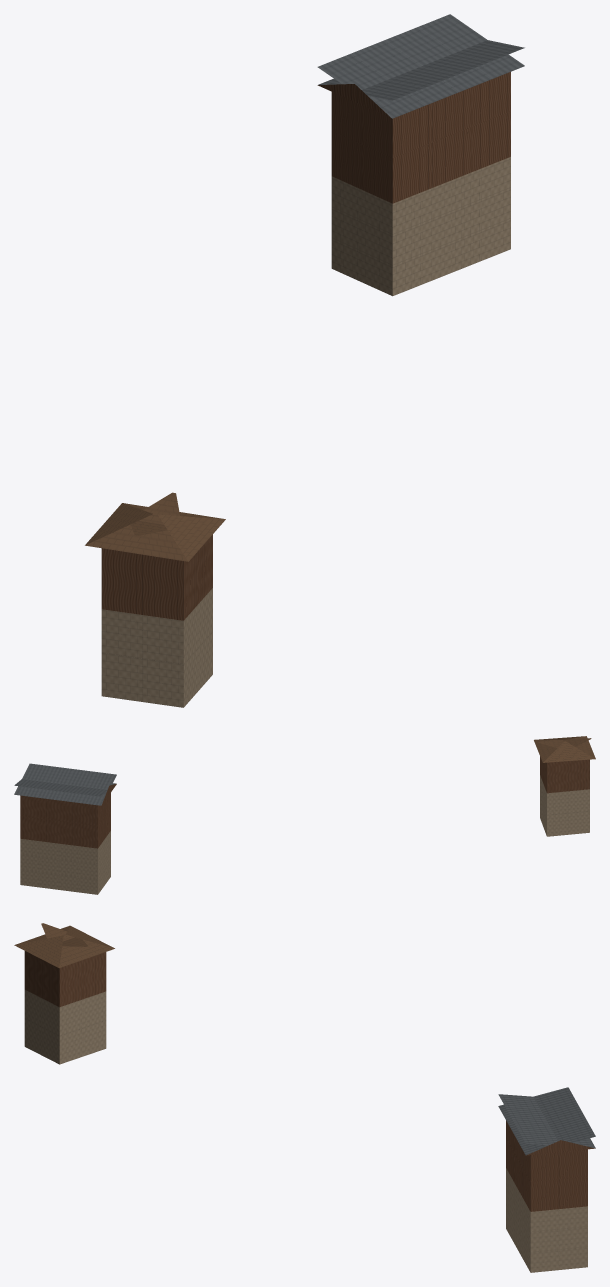
The model's file is bld_c21_32_369.gltf.
The picture shows the model from 3 angles, top to bottom: view 1: azimuth 30°, elevation 25°; view 2: azimuth 150°, elevation 25°; view 3: azimuth 270°, elevation 25°; orthographic projection. The views are drawn at different scales.
Parts seen in each view (by area): view 1: bld_c21_32_369; view 2: bld_c21_32_369; view 3: bld_c21_32_369.
Part boxes in pixels (x1,y1,x2,y2): bld_c21_32_369: (85, 14, 524, 707); bld_c21_32_369: (14, 736, 595, 894); bld_c21_32_369: (14, 923, 595, 1272).
Bounding box in the file's own units: 45.33 × 11.3 × 44.11.
5 materials, 5 textured.
